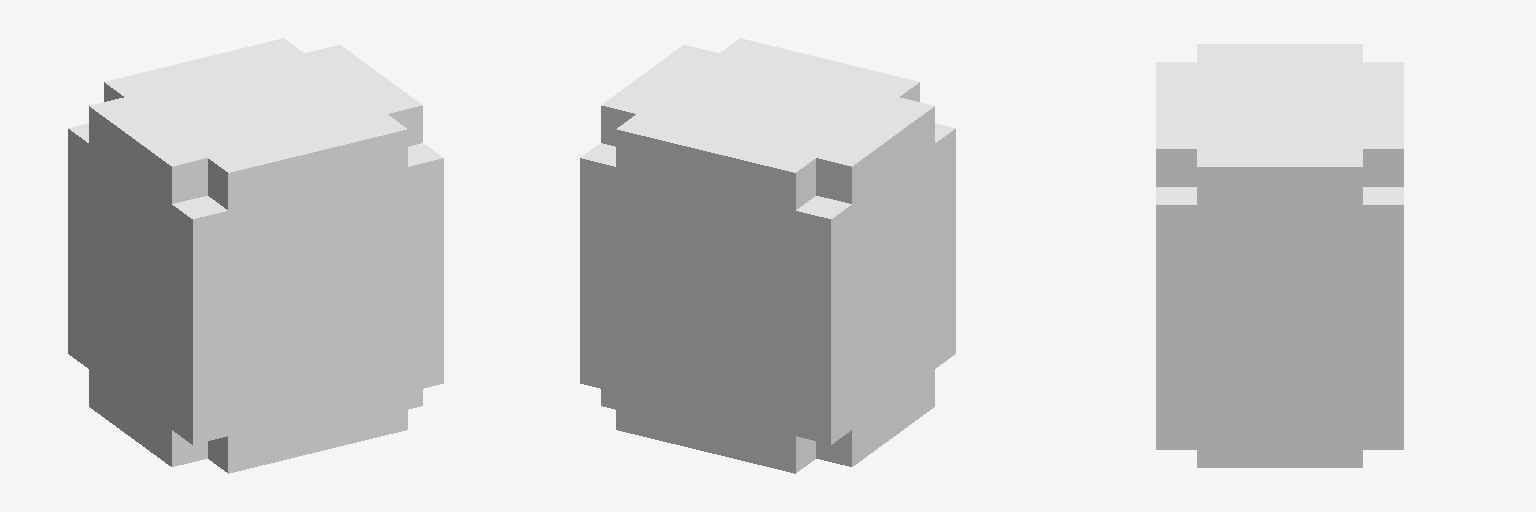
Rendered from male_02-5.obj.
3 renders of one model, left to right at view 1: azimuth 30°, elevation 25°; view 2: azimuth 150°, elevation 25°; view 3: azimuth 270°, elevation 25°, orthographic.
Visible parts, largest first — view 1: male_02-5; view 2: male_02-5; view 3: male_02-5.
Boxes of the visible parts, x1,y1,x2,y2 form: male_02-5: [68, 38, 443, 473]; male_02-5: [580, 38, 955, 473]; male_02-5: [1156, 44, 1403, 467].
Size of the model in its own units: 7 by 8 by 6.